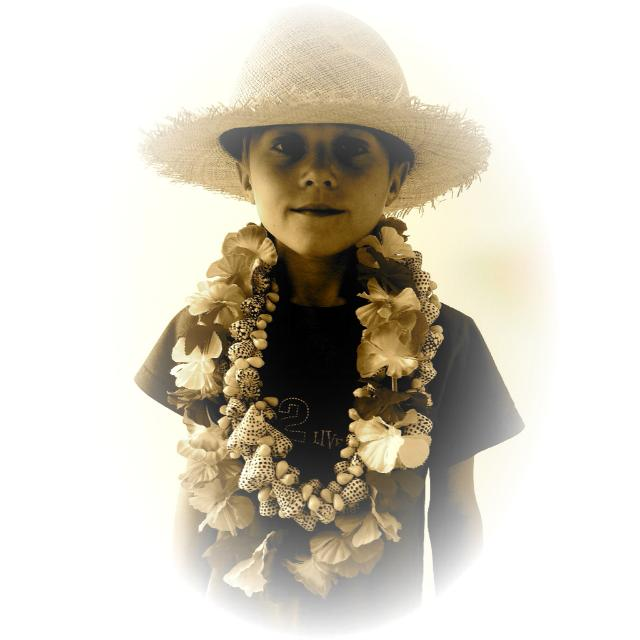Flower: (168, 223, 400, 607), (343, 321, 429, 387)
